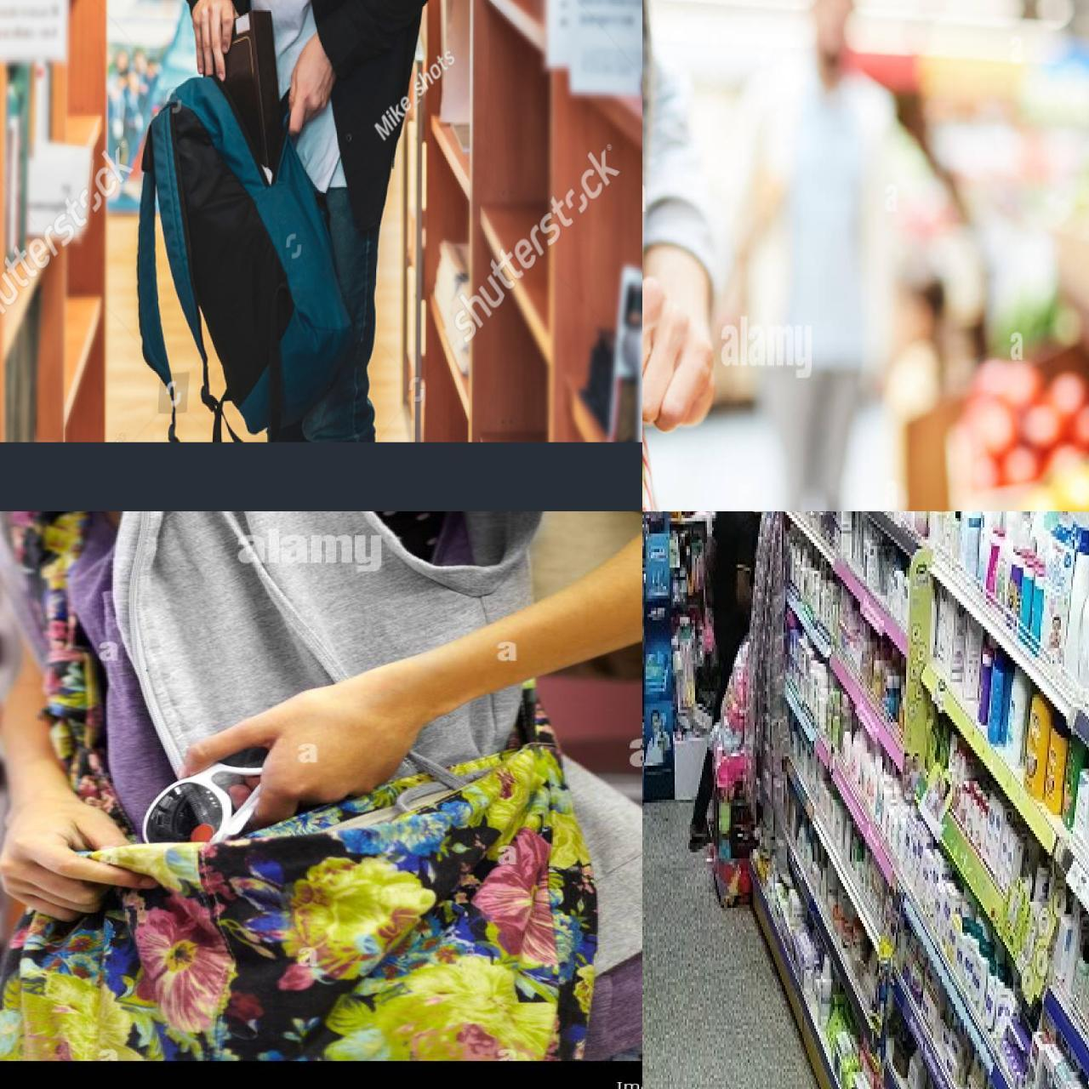shoplifting: (4, 615, 628, 1083), (0, 4, 535, 441)
